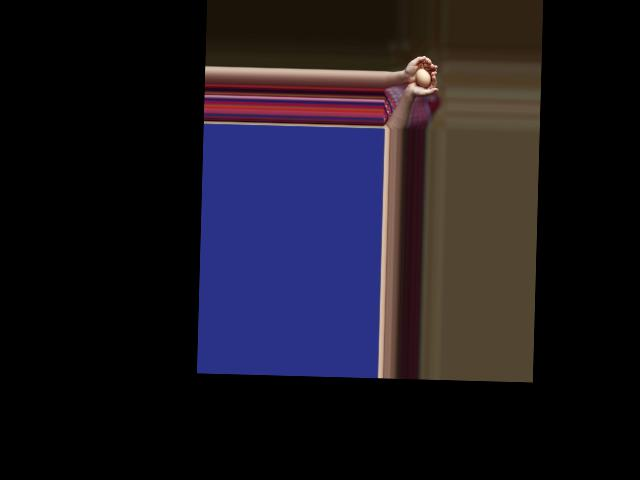egg: (415, 69, 431, 87)
